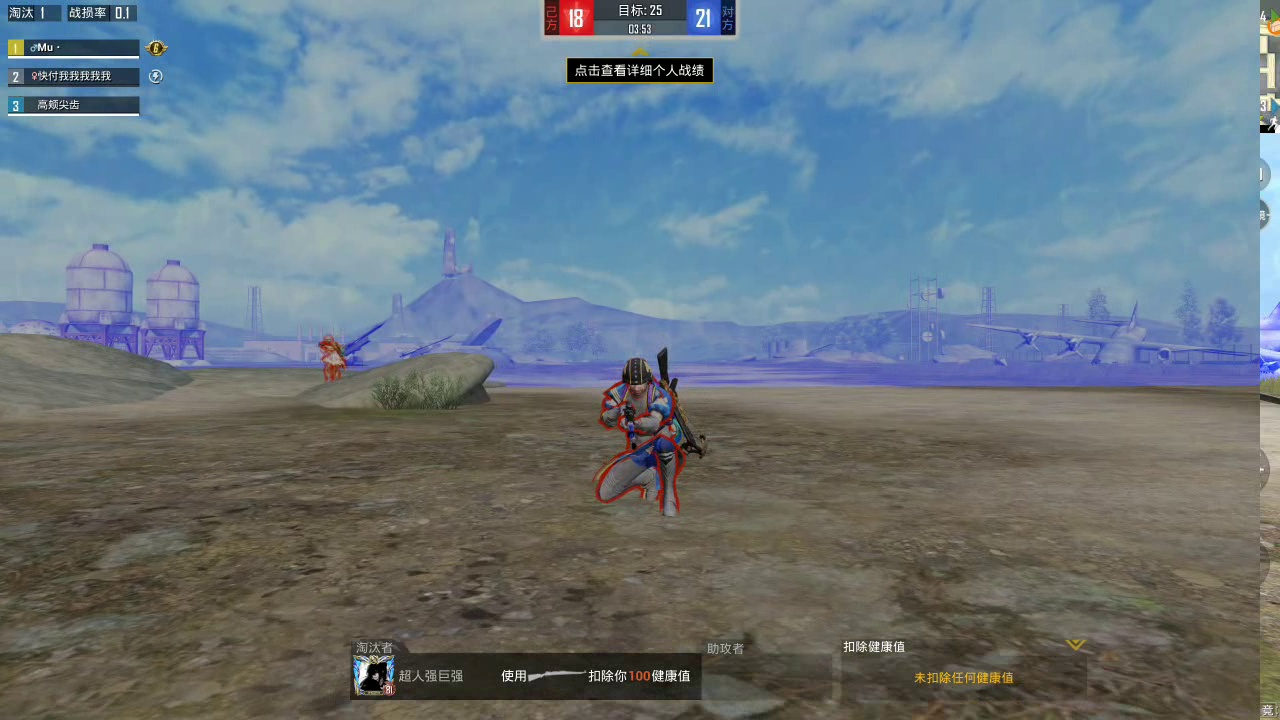enemy: (591, 361, 691, 516), (318, 337, 345, 384)
